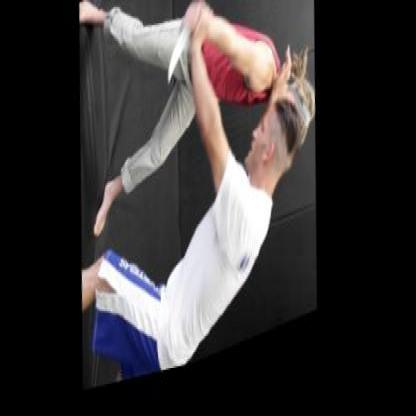knife: (160, 2, 203, 98)
